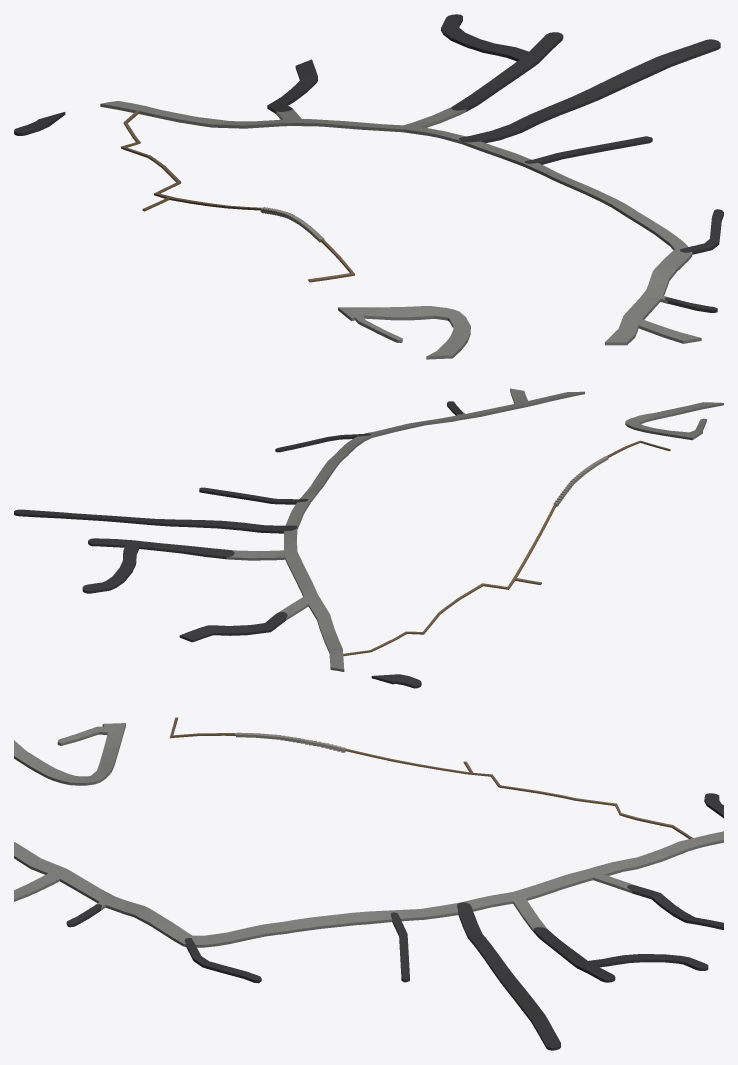
The picture shows the model from 3 angles, top to bottom: view 1: azimuth 30°, elevation 25°; view 2: azimuth 150°, elevation 25°; view 3: azimuth 270°, elevation 25°; orthographic projection. The views are drawn at different scales.
Bounding box in the file's own units: 259 × 38.49 × 292.
